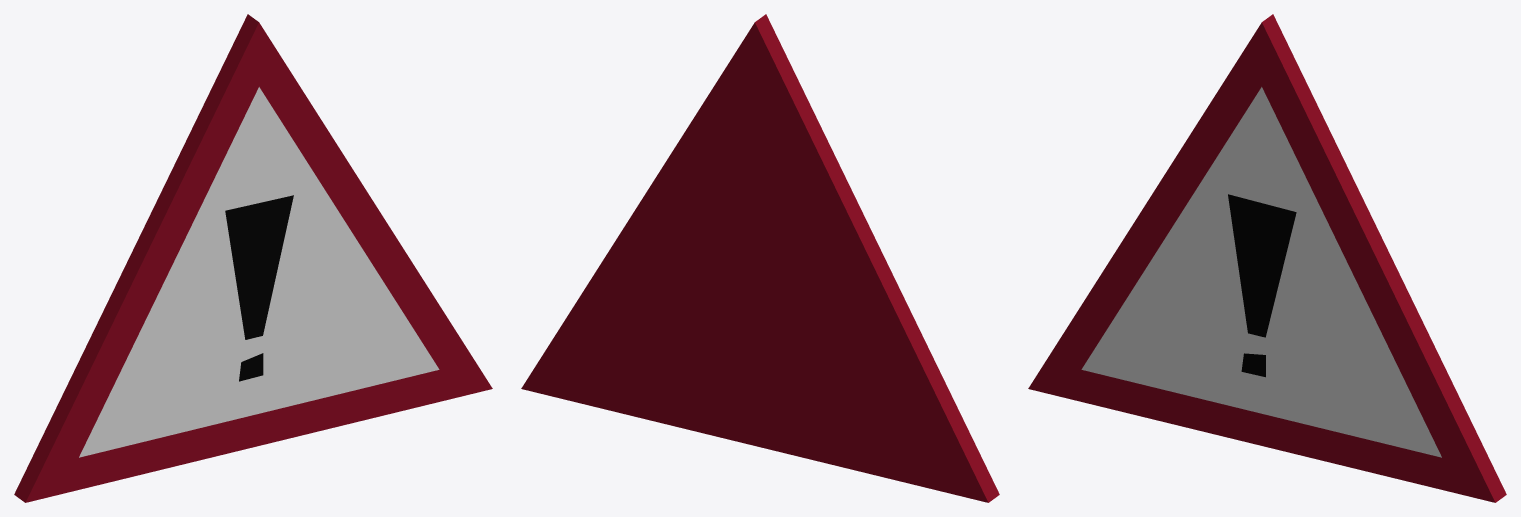
File: wansign.fbx
3 renders of one model, left to right at view 1: azimuth 30°, elevation 25°; view 2: azimuth 150°, elevation 25°; view 3: azimuth 330°, elevation 25°, orthographic.
Parts seen in each view (by area): view 1: Cylinder.017; view 2: Cylinder.017; view 3: Cylinder.017.
Boxes of the visible parts, x1,y1,x2,y2 form: Cylinder.017: (14,14,492,502); Cylinder.017: (521,14,999,502); Cylinder.017: (1028,14,1506,502).
Bounding box in the file's own units: 0.6935 × 0.6006 × 0.0291.
